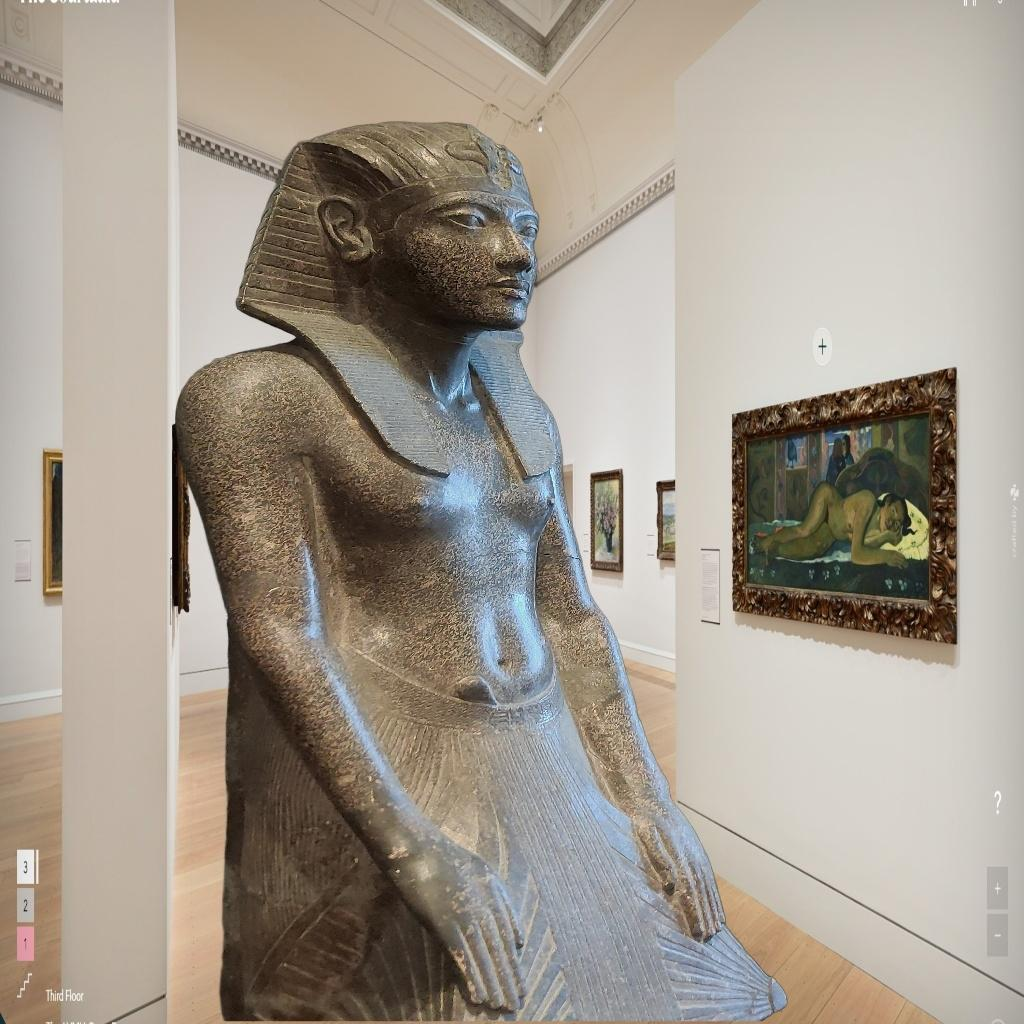Granite Statue of Tutankhamun: (172, 118, 790, 1022)
